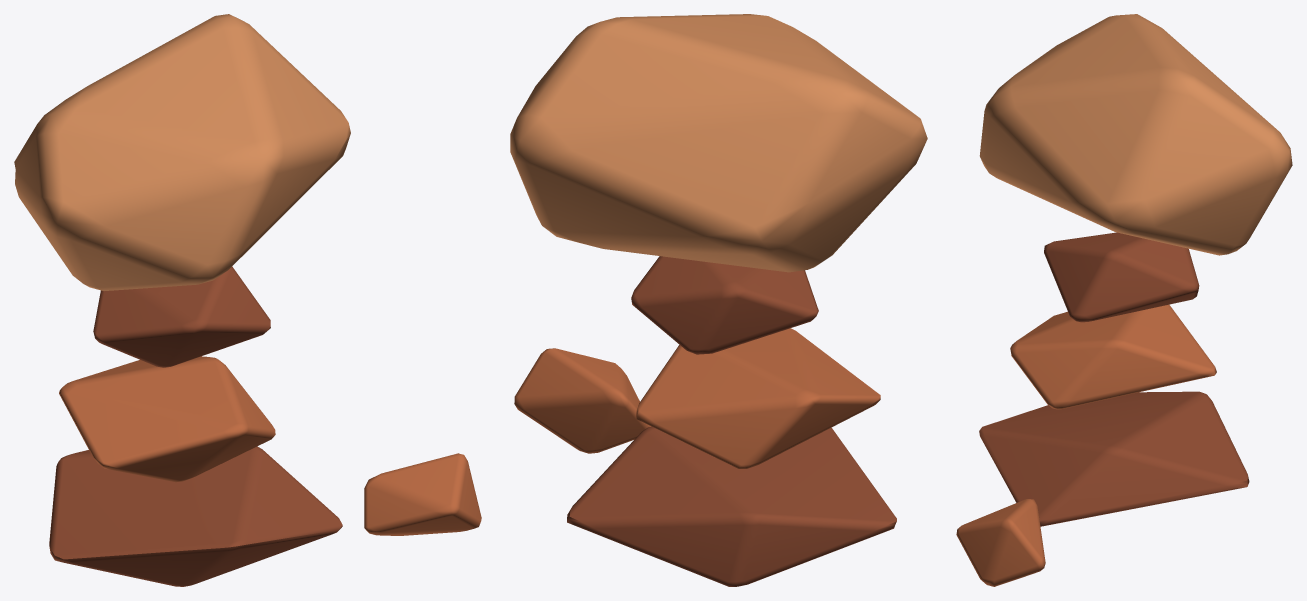
The model's file is rocher_desert_2.glb.
3 renders of one model, left to right at view 1: azimuth 30°, elevation 25°; view 2: azimuth 150°, elevation 25°; view 3: azimuth 270°, elevation 25°, orthographic. The views are drawn at different scales.
Parts seen in each view (by area): view 1: roche_gres_clair.006, roche_gres_sombre.006, roche_gres.006; view 2: roche_gres_clair.006, roche_gres_sombre.006, roche_gres.006; view 3: roche_gres_clair.006, roche_gres_sombre.006, roche_gres.006.
Boxes of the visible parts, box(x1,y1,x2,y2) form: roche_gres_clair.006: box(14, 14, 350, 290); roche_gres_sombre.006: box(49, 266, 342, 586); roche_gres.006: box(59, 356, 481, 535); roche_gres_clair.006: box(510, 14, 927, 272); roche_gres_sombre.006: box(567, 256, 896, 586); roche_gres.006: box(514, 328, 880, 468); roche_gres_clair.006: box(979, 14, 1292, 255); roche_gres_sombre.006: box(979, 232, 1249, 526); roche_gres.006: box(956, 304, 1216, 586).
Size of the model in its own units: 0.6439 by 0.7615 by 0.5035.
